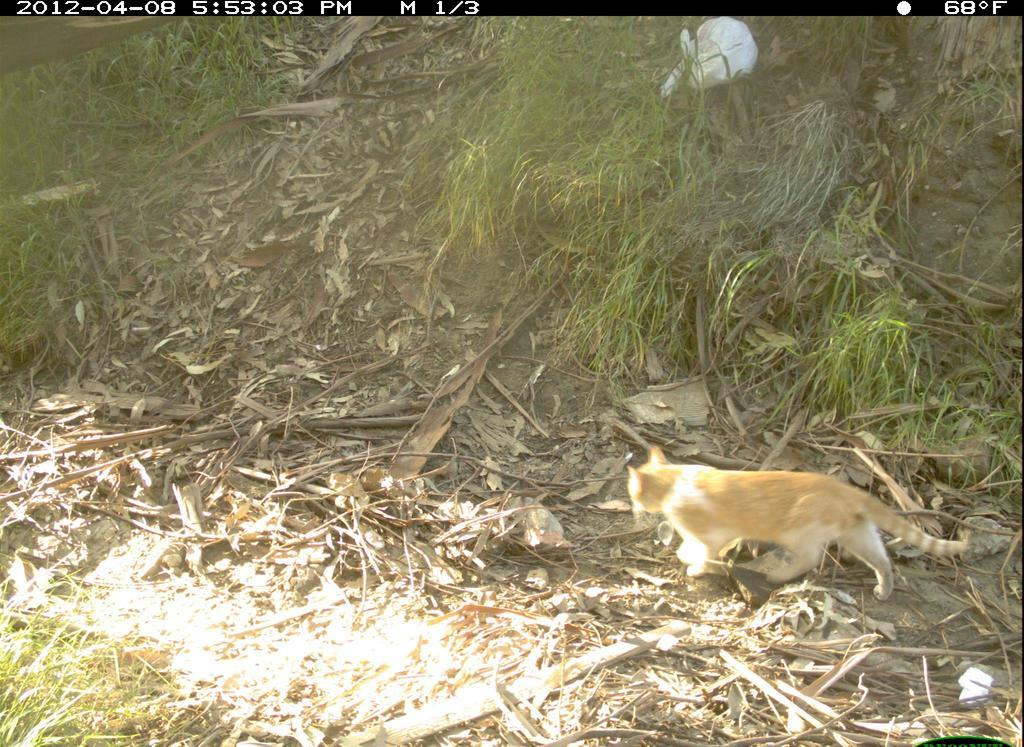cat: (621, 432, 980, 619)
